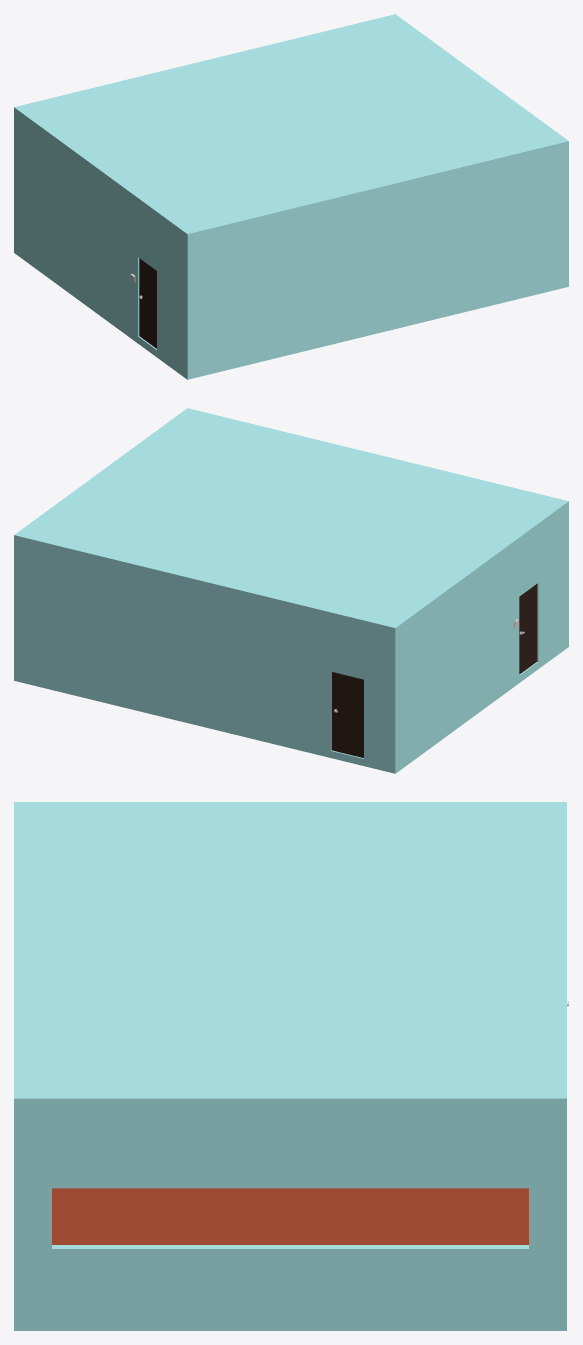
Rendered from room.FBX.
3 renders of one model, top to bottom at view 1: azimuth 30°, elevation 25°; view 2: azimuth 150°, elevation 25°; view 3: azimuth 270°, elevation 25°, orthographic. The views are drawn at different scales.
Visible parts, largest first — view 1: Box026; view 2: Box026; view 3: Box026.
Boxes of the visible parts, box(x1,y1,x2,y2) form: Box026: box(14, 14, 568, 379); Box026: box(14, 408, 568, 773); Box026: box(14, 802, 566, 1330).
Size of the model in its own units: 301 by 109 by 236.
